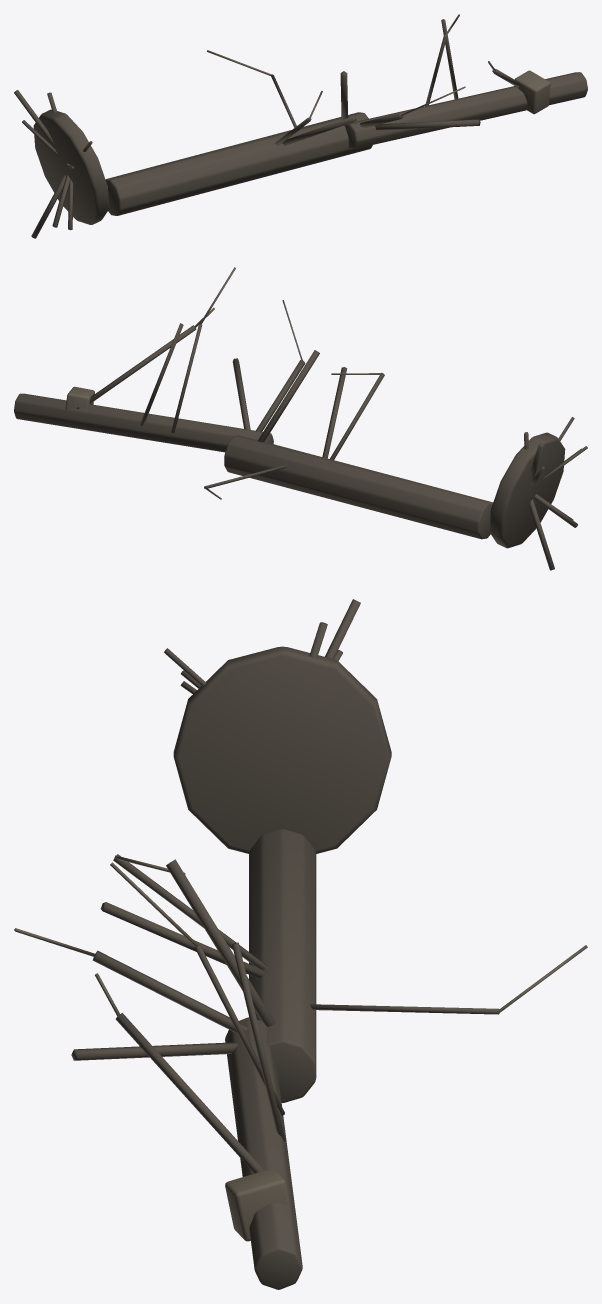
The model's file is fallen_tree_v1.glb.
3 views of the same model, one above another, from view 1: azimuth 30°, elevation 25°; view 2: azimuth 150°, elevation 25°; view 3: azimuth 270°, elevation 25° (orthographic). The views are drawn at different scales.
Visible parts, largest first — view 1: FallenTree; view 2: FallenTree; view 3: FallenTree.
Part boxes in pixels (<box>): FallenTree: <box>14,14,587,238</box>; FallenTree: <box>14,267,587,570</box>; FallenTree: <box>14,599,587,1289</box>.
Bounding box in the file's own units: 10.83 × 3.28 × 5.53.
